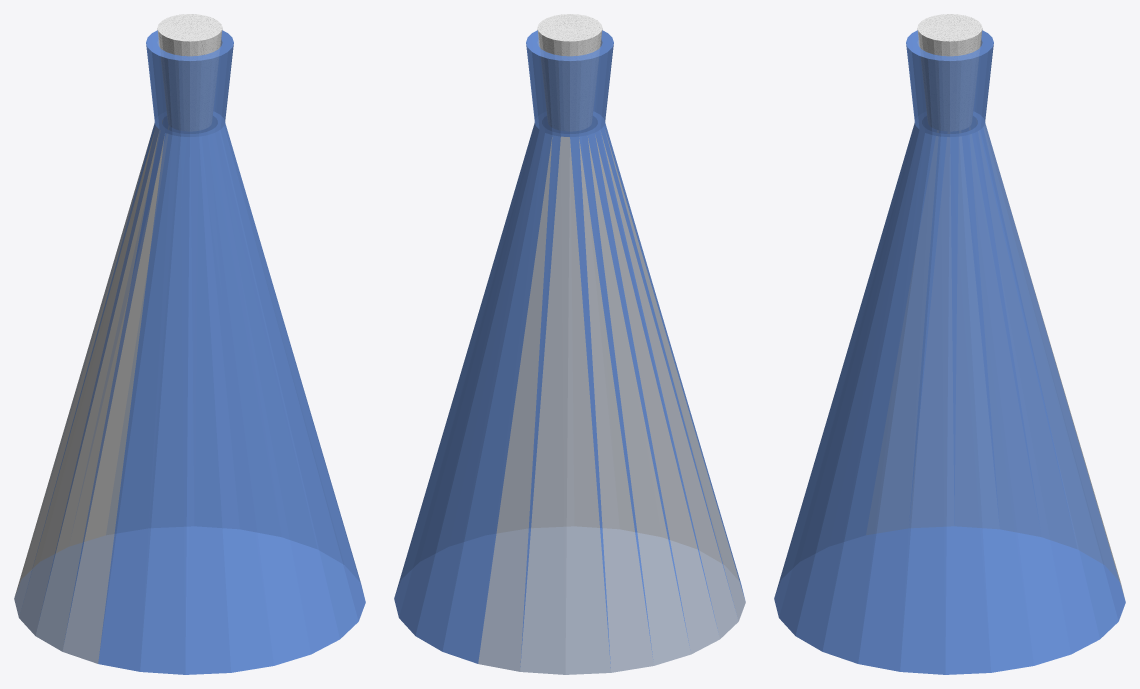
3 views of the same model, side by side, from view 1: azimuth 30°, elevation 25°; view 2: azimuth 150°, elevation 25°; view 3: azimuth 270°, elevation 25° (orthographic).
Visible parts, largest first — view 1: mesh1_mesh1-geometry, mesh2_mesh2-geometry; view 2: mesh1_mesh1-geometry, mesh2_mesh2-geometry; view 3: mesh1_mesh1-geometry, mesh2_mesh2-geometry.
Part boxes in pixels (<box>): mesh1_mesh1-geometry: <box>14,30,365,674</box>; mesh2_mesh2-geometry: <box>157,14,222,131</box>; mesh1_mesh1-geometry: <box>394,30,745,674</box>; mesh2_mesh2-geometry: <box>537,14,602,131</box>; mesh1_mesh1-geometry: <box>774,30,1125,674</box>; mesh2_mesh2-geometry: <box>917,14,982,131</box>.
Bounding box in the file's own units: 0.4373 × 0.7858 × 0.4373.
